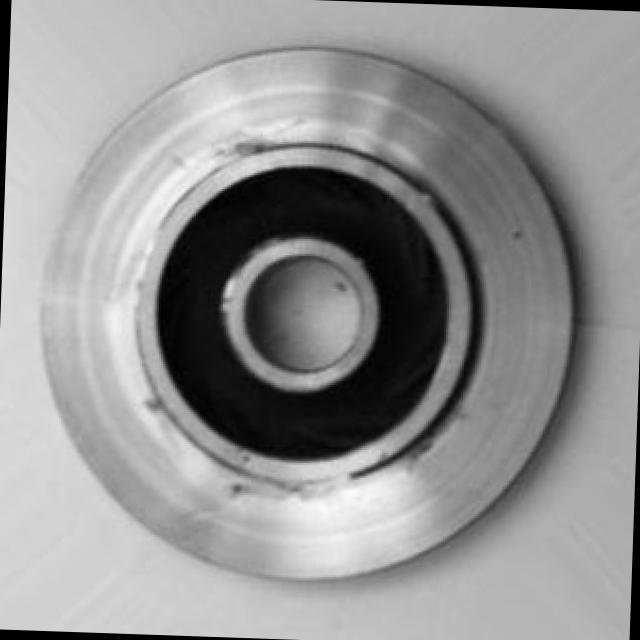Defect: (508, 225, 526, 243)
